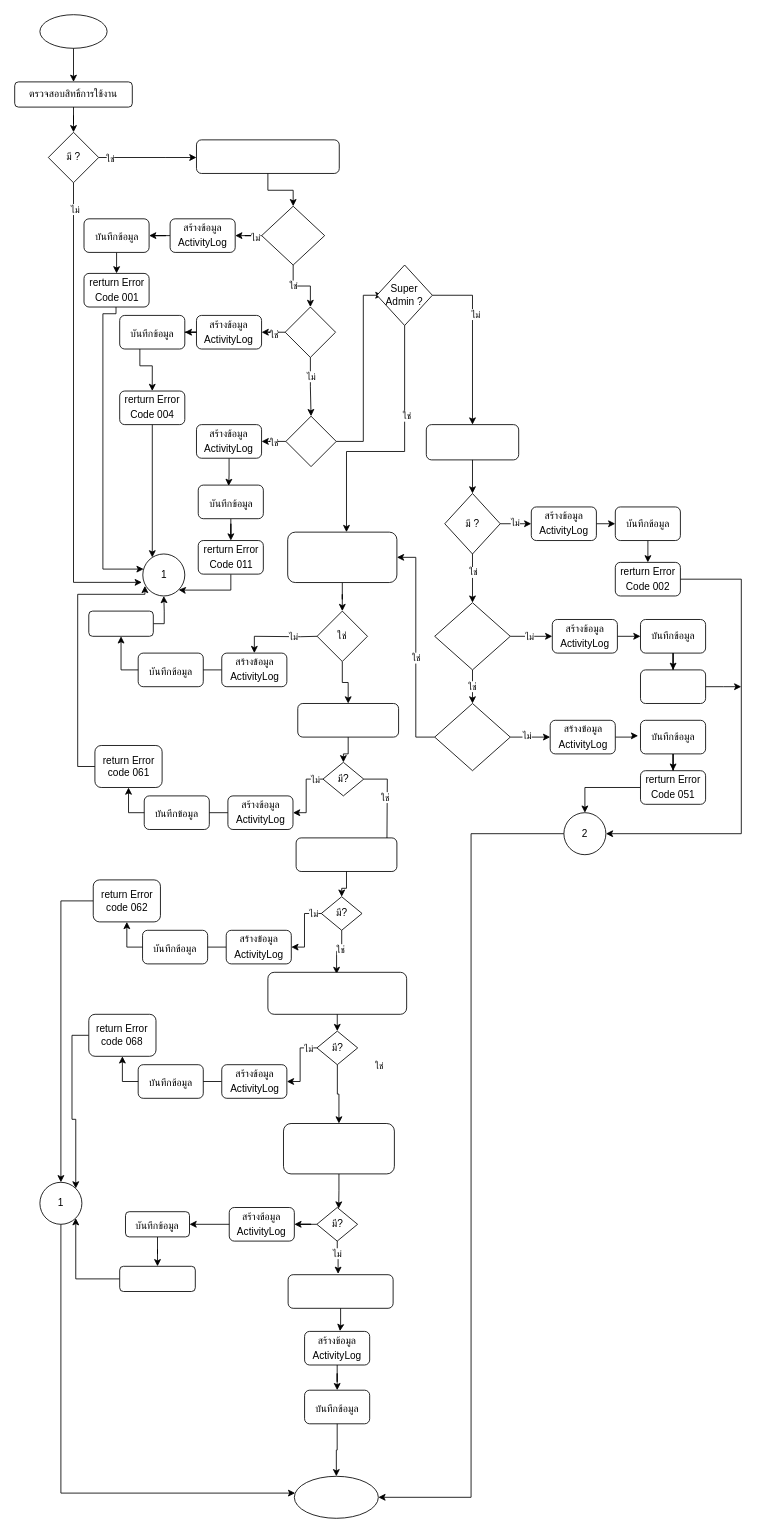
This 763x1533 diagram has some shape labels left out. The shapes that lost their labels are listed below. From the top down, each one's centre as x and y in pixels, then its label:
At point (73, 31): "เริ่ม".
At point (267, 156): "ตรวจสอบ Account สถานะการใช้งาน".
At point (293, 235): "มีใน ระบบ ?".
At point (310, 331): "status = 1 ?".
At point (310, 441): "Locked = 1 ?".
At point (472, 442): "ตรวจสอบสิทธิ์การใช้งาน Company นี้ไหม".
At point (342, 557): "ตรวจสอบ รายละเอียดในหัวข้อ ข้อมูลสำคัญทางการเงินซ้ำซ้อน".
At point (120, 623): "return Error code 067".
At point (472, 636): "Company มีในระบบ ไหม ?".
At point (673, 686): "rerturn Error Code 007".
At point (348, 720): "ดึงข้อมูลหัวข้อหลัก ข้อมูลสำคัญทางการเงิน ที่ Active".
At point (472, 737): "Company Active ?".
At point (346, 854): "ดึงข้อมูลหัวข้อ ข้อมูลสำคัญทางการเงิน ที่ Active".
At point (337, 992): "ตรวจสอบข้อมูลรายละเอียดหัวข้อ ที่ส่งมา มีหัวข้อ ข้อมูลที่สำคัญทางการเงินทุกอัน".
At point (338, 1148): "ตรวจสอบรายละเอียดหัวข้อ ข้อมูลสำคัญทางการเงิน มีในระบบแล้ว ?".
At point (157, 1278): "return Error code 069".
At point (340, 1291): "สร้างรายละเอียดหัวข้อ ข้อมูลสำคัญทางการเงิน".
At point (335, 1496): "สิ้นสุด".
